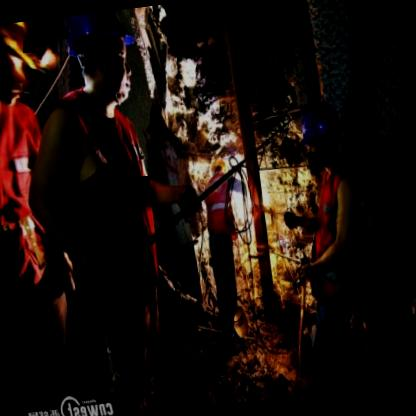helmet: (62, 8, 140, 110), (293, 96, 348, 174)
